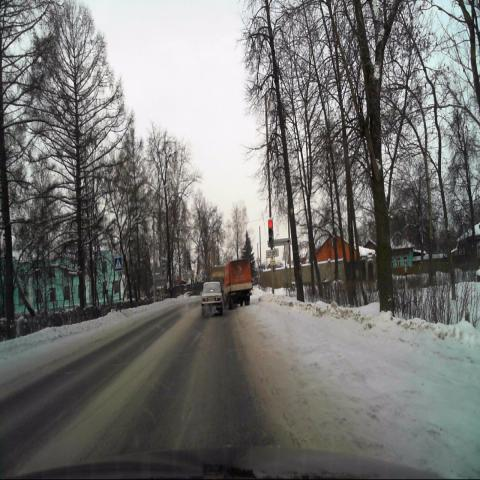5_19_1: (114, 258, 123, 271)
